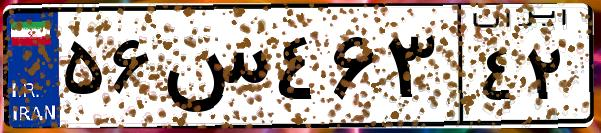2: (525, 38, 570, 115)
3: (385, 28, 445, 110)
4: (270, 28, 330, 110), (475, 38, 525, 113)
5: (57, 26, 110, 100)
6: (330, 28, 385, 110), (110, 28, 158, 98)
س: (158, 20, 270, 120)
